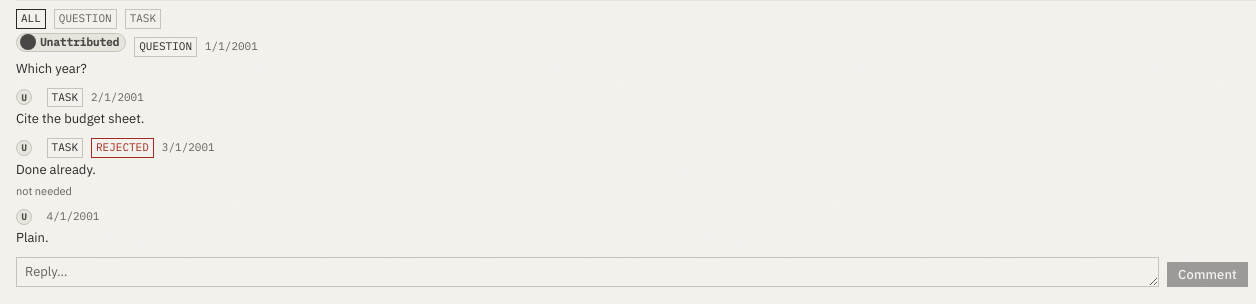
Test: labels each comment's kind and filters the thread by kind
This screenshot has width=1256, height=304.
Expected: the elements with test id "comment-kind" read "question", "task", "task", in this order, [134,37,197,57]; [47,88,83,107]; [47,138,83,158]
Click the button with test id "comment-filter-task" at (143, 19), box [125,9,161,29]
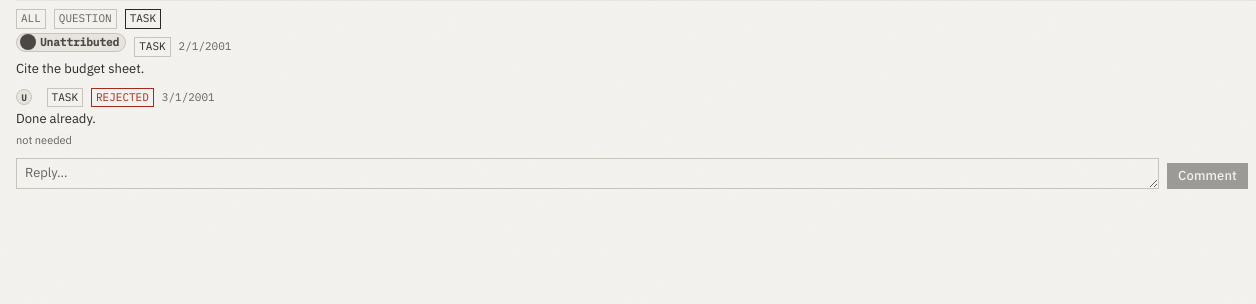
Result: the number of elements with test id "comment" is 2 at [16,33,231,57]; [16,88,215,147]
Click the button with test id "comment-filter-task" at (143, 19), box [125,9,161,29]
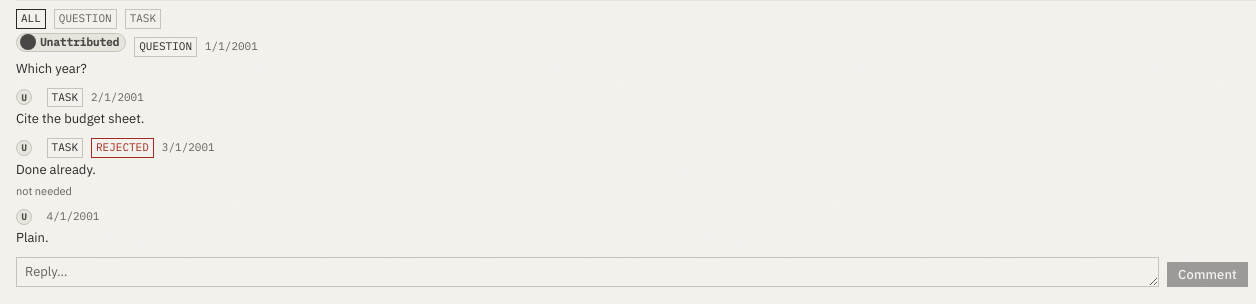
Result: the number of elements with test id "comment" is 4 at [16,33,258,57]; [16,88,144,107]; [16,138,215,198]; [16,209,99,225]
